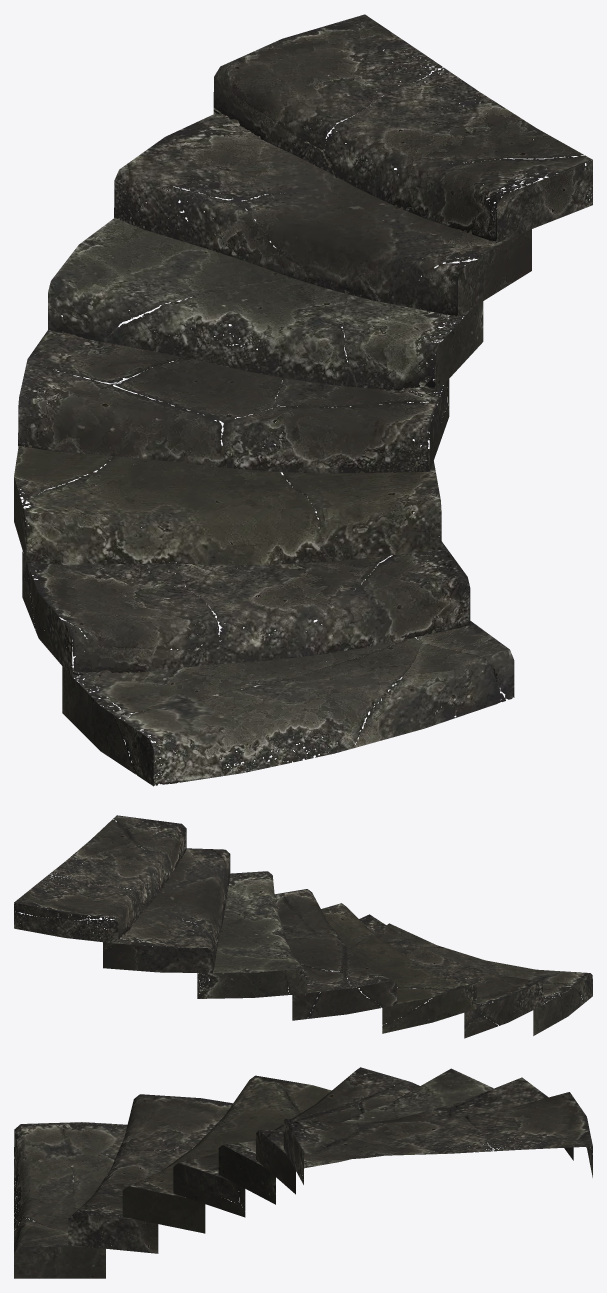
3 views of the same model, one above another, from view 1: azimuth 30°, elevation 25°; view 2: azimuth 150°, elevation 25°; view 3: azimuth 270°, elevation 25° (orthographic). The views are drawn at different scales.
Parts seen in each view (by area): view 1: SM_Greathall_Natural_Steps_01_LOD0; view 2: SM_Greathall_Natural_Steps_01_LOD0; view 3: SM_Greathall_Natural_Steps_01_LOD0.
Part boxes in pixels (x1,y1,x2,y2): SM_Greathall_Natural_Steps_01_LOD0: [14, 14, 592, 786]; SM_Greathall_Natural_Steps_01_LOD0: [14, 815, 592, 1038]; SM_Greathall_Natural_Steps_01_LOD0: [14, 1067, 592, 1278].
Bounding box in the file's own units: 4.29 × 2.07 × 4.72.
Materials: 1 (1 with a texture image).
